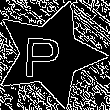P_N: (30, 28, 70, 80)
